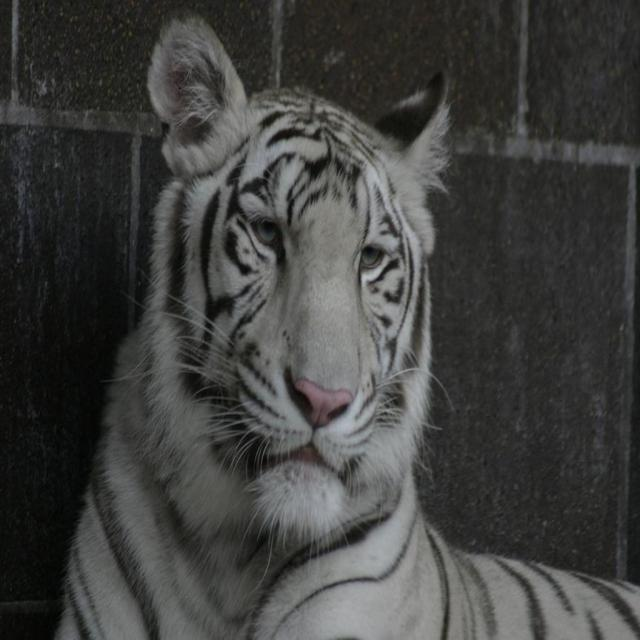Tiger: (55, 15, 640, 639)
